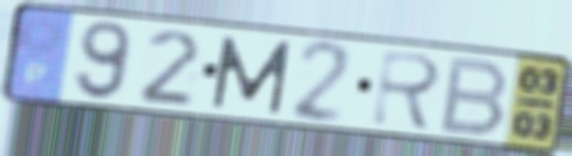2: (286, 36, 355, 127), (133, 28, 205, 109)
9: (70, 18, 136, 102)
B: (435, 54, 514, 139)
M: (209, 33, 295, 117)
R: (367, 47, 446, 134)
